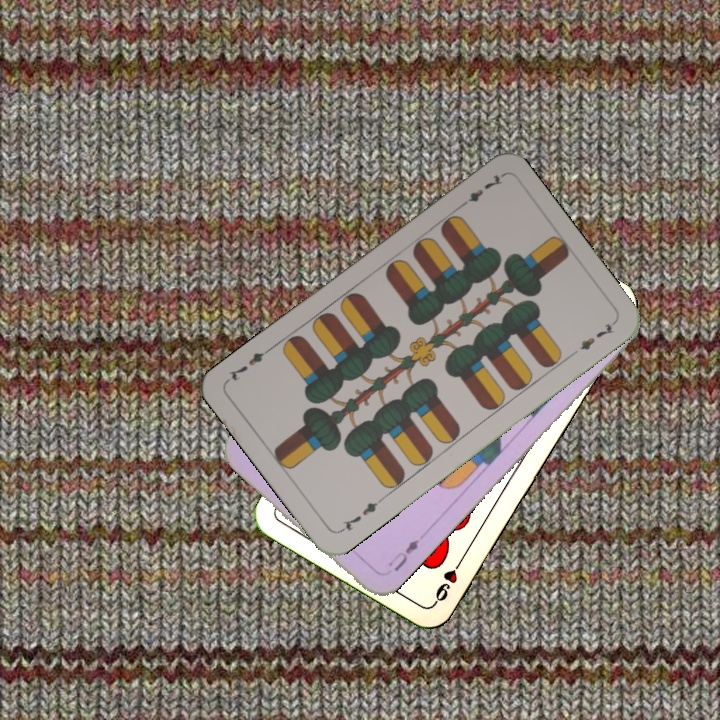E7: (336, 493, 386, 535), (454, 170, 505, 211)
EU: (383, 534, 423, 574)
H9: (430, 553, 467, 607)
